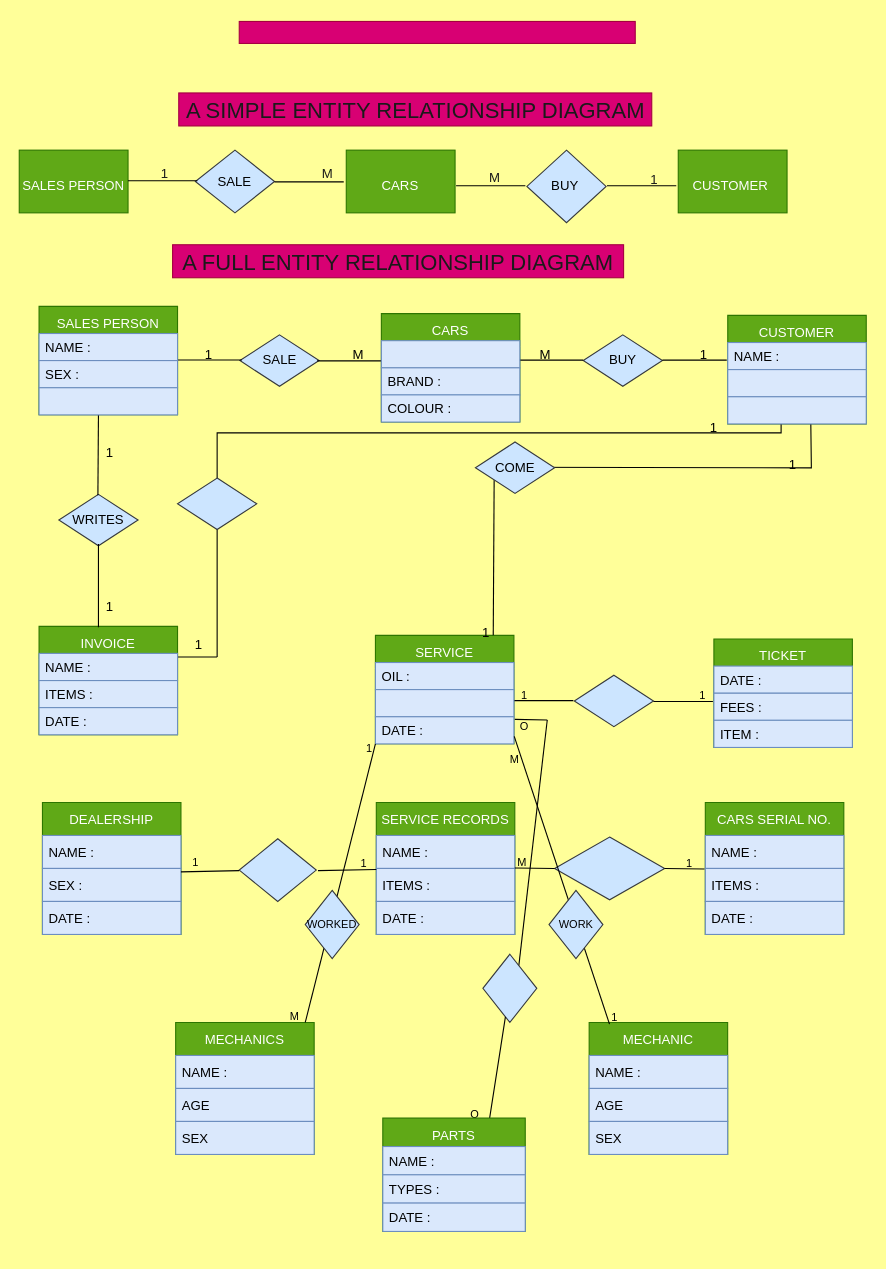
This 886x1269 diagram has some shape labels left out. Each missing label, with the centre of its shape:
ADDRESS :: the point at 796,383
AGE :: the point at 108,401
CAR DEALERSHIP IN BOLGATANGA: the point at 436,31
GETS: the point at 216,503
MADE :: the point at 450,354
MAINTIANS: the point at 277,869
MAY: the point at 509,987
NUMBER :: the point at 796,410
REFERENCED: the point at 609,868
TIRES :: the point at 444,702
WRITTEN: the point at 613,700
